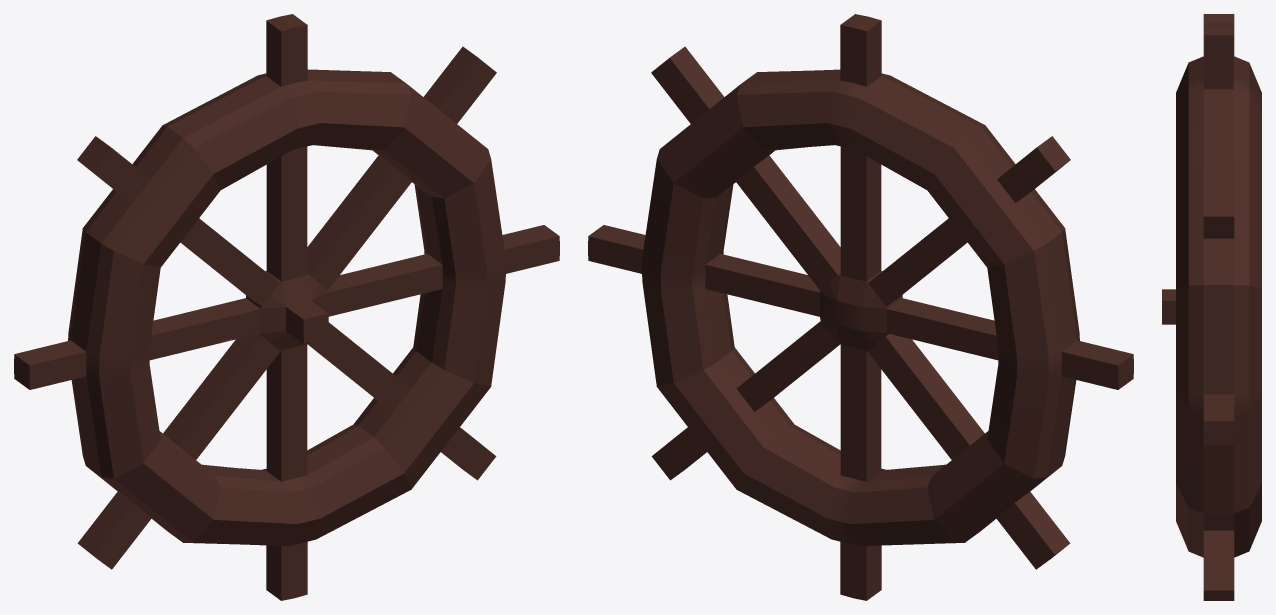
The model's file is Timon (Modelo).fbx.
3 views of the same model, side by side, from view 1: azimuth 30°, elevation 25°; view 2: azimuth 150°, elevation 25°; view 3: azimuth 270°, elevation 25° (orthographic). The views are drawn at different scales.
Parts seen in each view (by area): view 1: Timon1; view 2: Timon1; view 3: Timon1.
Part boxes in pixels (x1,y1,x2,y2): Timon1: [14, 14, 559, 600]; Timon1: [588, 14, 1133, 600]; Timon1: [1162, 14, 1261, 600].
Bounding box in the file's own units: 0.5558 × 0.5716 × 0.093.
